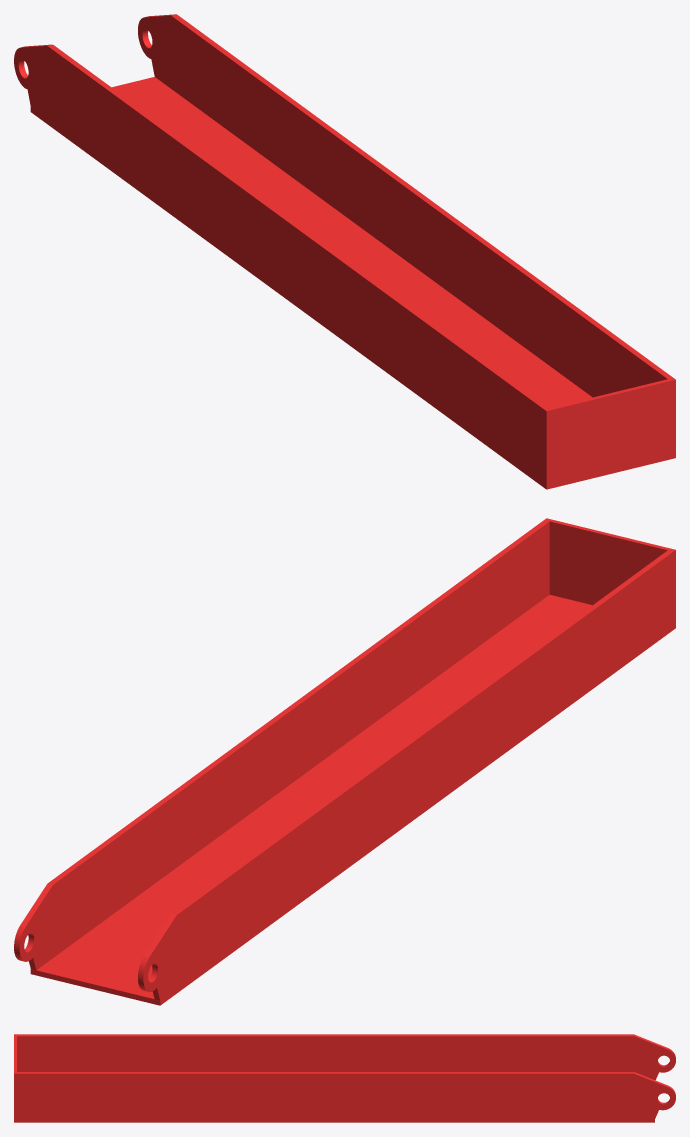
File: original-5.obj
3 views of the same model, one above another, from view 1: azimuth 30°, elevation 25°; view 2: azimuth 150°, elevation 25°; view 3: azimuth 270°, elevation 25° (orthographic). The views are drawn at different scales.
Visible parts, largest first — view 1: Group5/mesh6/mesh6-geometry#mesh6-geometry; view 2: Group5/mesh6/mesh6-geometry#mesh6-geometry; view 3: Group5/mesh6/mesh6-geometry#mesh6-geometry.
Boxes of the visible parts, <box> form: Group5/mesh6/mesh6-geometry#mesh6-geometry: <box>14,14,675,489</box>; Group5/mesh6/mesh6-geometry#mesh6-geometry: <box>14,518,675,1005</box>; Group5/mesh6/mesh6-geometry#mesh6-geometry: <box>14,1034,675,1122</box>.
Size of the model in its own units: 0.1933 by 0.1119 by 1.38.
